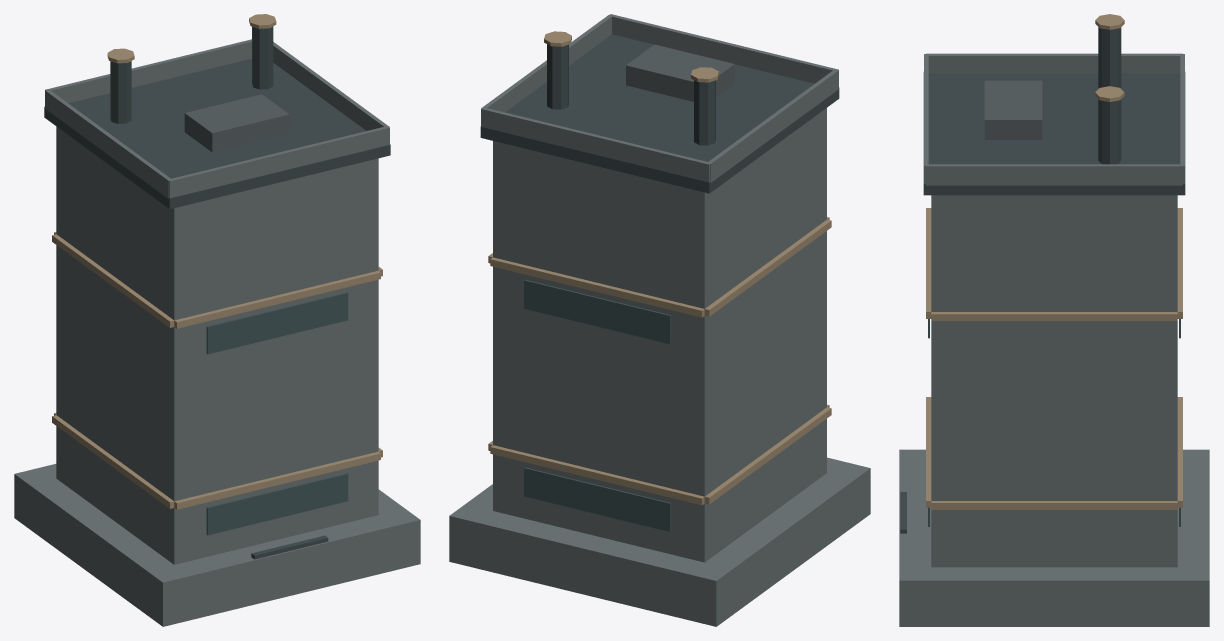
The model's file is industrial_tower_a_lod1.glb.
3 renders of one model, left to right at view 1: azimuth 30°, elevation 25°; view 2: azimuth 150°, elevation 25°; view 3: azimuth 270°, elevation 25°, orthographic. The views are drawn at different scales.
Visible parts, largest first — view 1: KIT_base, KIT_structure, KIT_windows, KIT_accent, KIT_equipment; view 2: KIT_base, KIT_structure, KIT_windows, KIT_accent, KIT_equipment; view 3: KIT_base, KIT_structure, KIT_accent, KIT_equipment.
Part boxes in pixels (x1,y1,x2,y2): KIT_base: [14, 39, 420, 626]; KIT_structure: [44, 26, 390, 559]; KIT_windows: [206, 292, 348, 535]; KIT_accent: [52, 14, 382, 509]; KIT_equipment: [184, 94, 289, 152]; KIT_base: [449, 14, 870, 626]; KIT_structure: [480, 34, 839, 193]; KIT_windows: [524, 279, 670, 531]; KIT_accent: [488, 31, 831, 505]; KIT_equipment: [626, 44, 734, 101]; KIT_base: [899, 53, 1209, 626]; KIT_structure: [900, 27, 1185, 533]; KIT_accent: [926, 14, 1182, 509]; KIT_equipment: [984, 80, 1042, 139].
Size of the model in its own units: 14 by 25.17 by 14.
